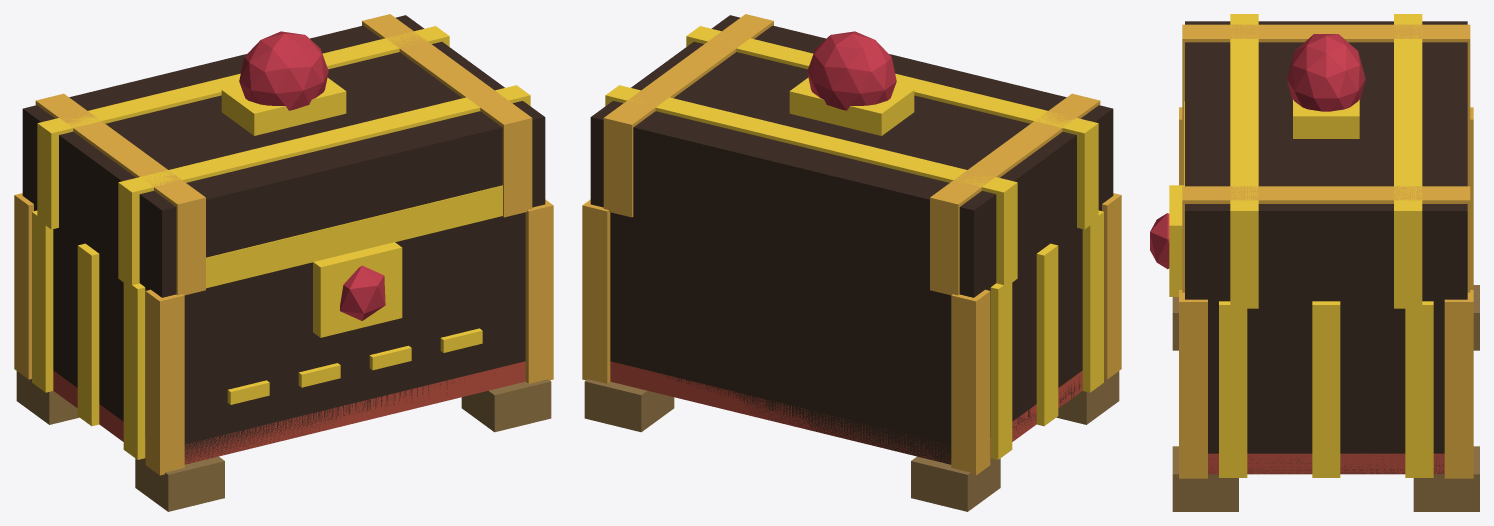
Rendered from loot_chest_gilded_closed.glb.
The picture shows the model from 3 angles, left to right: view 1: azimuth 30°, elevation 25°; view 2: azimuth 150°, elevation 25°; view 3: azimuth 270°, elevation 25°; orthographic projection.
Visible parts, largest first — view 1: Gild_Lid, Gild_Body_Front, Gild_Lid_Lip, Gild_Lid_Band_1, Gild_Body_Floor, Gild_Body_Left, Gild_Lid_Corner_2, Gild_Lid_Band_2, Gild_Corner_1, Gild_Lid_Corner_1, Gild_Crest_Gem, Gild_Lock (+14 smaller); view 2: Gild_Lid, Gild_Body_Back, Gild_Lid_Band_2, Gild_Body_Left, Gild_Lid_Corner_2, Gild_Lid_Corner_1, Gild_Corner_3, Gild_Lid_Band_1, Gild_Body_Floor, Gild_Crest_Gem, Gild_Corner_4, Gild_Band_2 (+7 smaller); view 3: Gild_Lid, Gild_Body_Right, Gild_Lid_Band_2, Gild_Lid_Band_1, Gild_Lid_Corner_2, Gild_Lid_Corner_1, Gild_Corner_4, Gild_Corner_2, Gild_Band_2, Gild_Band_1, Gild_Band_3, Gild_Crest_Gem (+10 smaller).
Boxes of the visible parts, bbox=[...] form: Gild_Lid: bbox=[22, 15, 545, 297]; Gild_Body_Front: bbox=[184, 212, 525, 463]; Gild_Lid_Lip: bbox=[206, 185, 502, 288]; Gild_Lid_Band_1: bbox=[118, 85, 530, 284]; Gild_Body_Floor: bbox=[53, 361, 525, 464]; Gild_Body_Left: bbox=[34, 206, 148, 437]; Gild_Lid_Corner_2: bbox=[362, 14, 532, 217]; Gild_Lid_Band_2: bbox=[37, 26, 449, 229]; Gild_Corner_1: bbox=[145, 289, 184, 475]; Gild_Lid_Corner_1: bbox=[35, 93, 205, 295]; Gild_Crest_Gem: bbox=[239, 31, 328, 110]; Gild_Lock: bbox=[313, 242, 402, 337]; Gild_Lid: bbox=[590, 15, 1113, 297]; Gild_Body_Back: bbox=[610, 212, 951, 464]; Gild_Lid_Band_2: bbox=[605, 85, 1017, 288]; Gild_Body_Left: bbox=[987, 206, 1101, 437]; Gild_Lid_Corner_2: bbox=[603, 14, 773, 217]; Gild_Lid_Corner_1: bbox=[930, 93, 1100, 295]; Gild_Corner_3: bbox=[951, 289, 990, 475]; Gild_Lid_Band_1: bbox=[686, 26, 1098, 229]; Gild_Body_Floor: bbox=[610, 361, 1082, 463]; Gild_Crest_Gem: bbox=[807, 31, 896, 110]; Gild_Corner_4: bbox=[582, 199, 610, 383]; Gild_Band_2: bbox=[1036, 243, 1058, 426]; Gild_Lid: bbox=[1185, 21, 1467, 301]; Gild_Body_Right: bbox=[1208, 301, 1444, 474]; Gild_Lid_Band_2: bbox=[1394, 14, 1422, 308]; Gild_Lid_Band_1: bbox=[1230, 14, 1258, 308]; Gild_Lid_Corner_2: bbox=[1182, 186, 1470, 292]; Gild_Lid_Corner_1: bbox=[1182, 24, 1470, 132]; Gild_Corner_4: bbox=[1444, 290, 1473, 478]; Gild_Corner_2: bbox=[1179, 290, 1207, 478]; Gild_Band_2: bbox=[1312, 301, 1340, 477]; Gild_Band_1: bbox=[1219, 301, 1247, 477]; Gild_Band_3: bbox=[1405, 301, 1433, 477]; Gild_Crest_Gem: bbox=[1287, 34, 1365, 111].
Bounding box in the file's own units: 1.12 × 1.01 × 0.7945.
